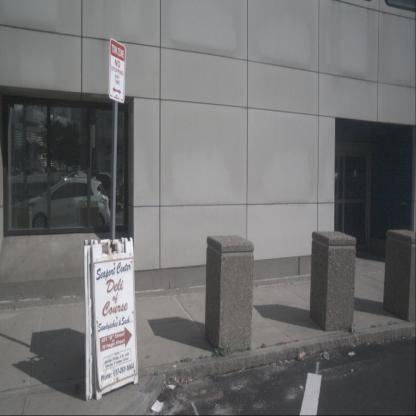vehicle-car: (23, 176, 111, 236), (52, 170, 121, 220)
